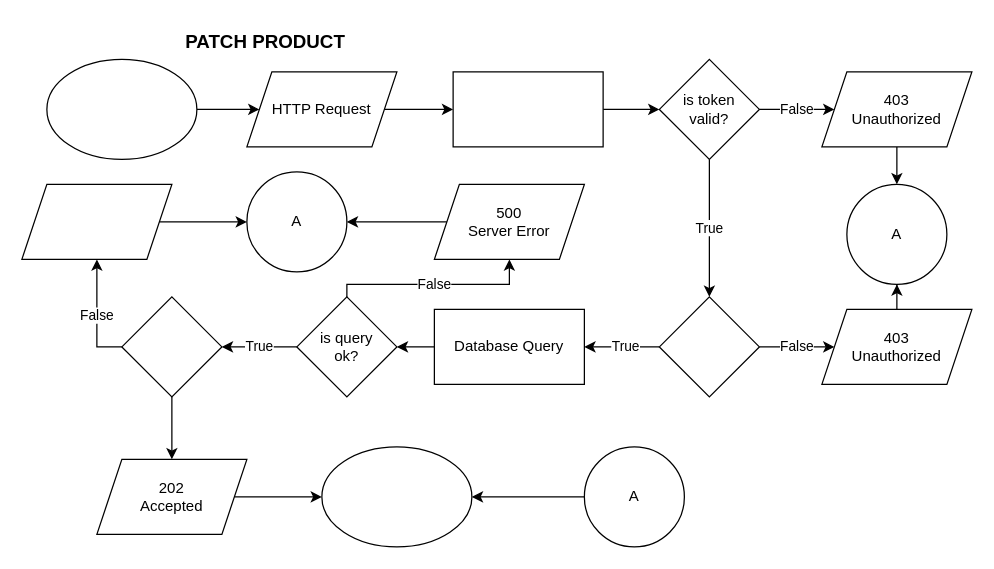
This 994x569 diagram has some shape labels left out. The box of each missing label's shape, as (x1, y1, x2, y2) in pixels:
404 Data Not Found: (21, 183, 172, 259)
are you admin?: (658, 296, 759, 397)
End: (321, 446, 472, 547)
Enter Product Route: (452, 71, 603, 147)
is result exist?: (121, 296, 222, 397)
Start: (46, 58, 197, 159)
